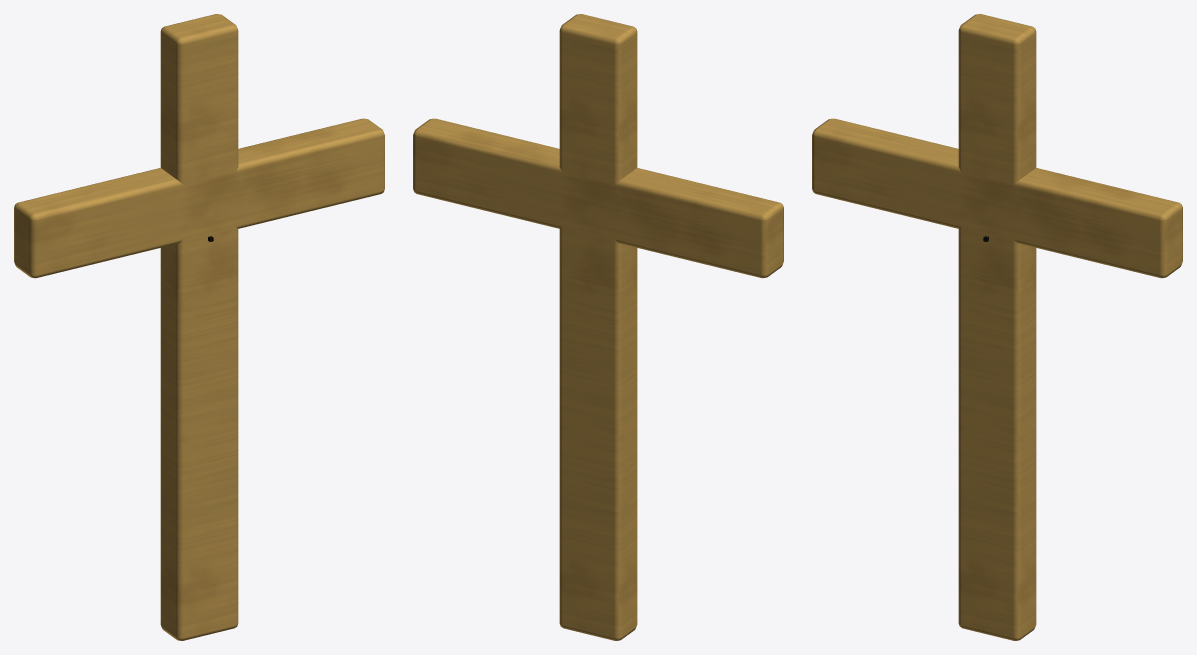
The model's file is crucifix.glb.
3 views of the same model, side by side, from view 1: azimuth 30°, elevation 25°; view 2: azimuth 150°, elevation 25°; view 3: azimuth 330°, elevation 25° (orthographic).
Visible parts, largest first — view 1: crucifix; view 2: crucifix; view 3: crucifix.
Boxes of the visible parts, box(x1,y1,x2,y2) form: crucifix: box(14, 14, 384, 640); crucifix: box(413, 14, 783, 640); crucifix: box(812, 14, 1182, 640).
Bounding box in the file's own units: 0.4002 × 0.6502 × 0.044.
Materials: 2 (1 with a texture image).
